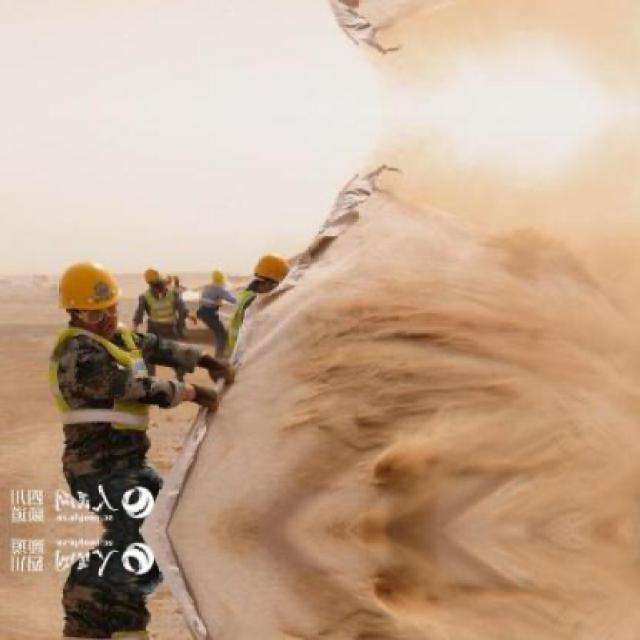helmet: (52, 254, 125, 338), (249, 253, 289, 296), (144, 265, 168, 295)
